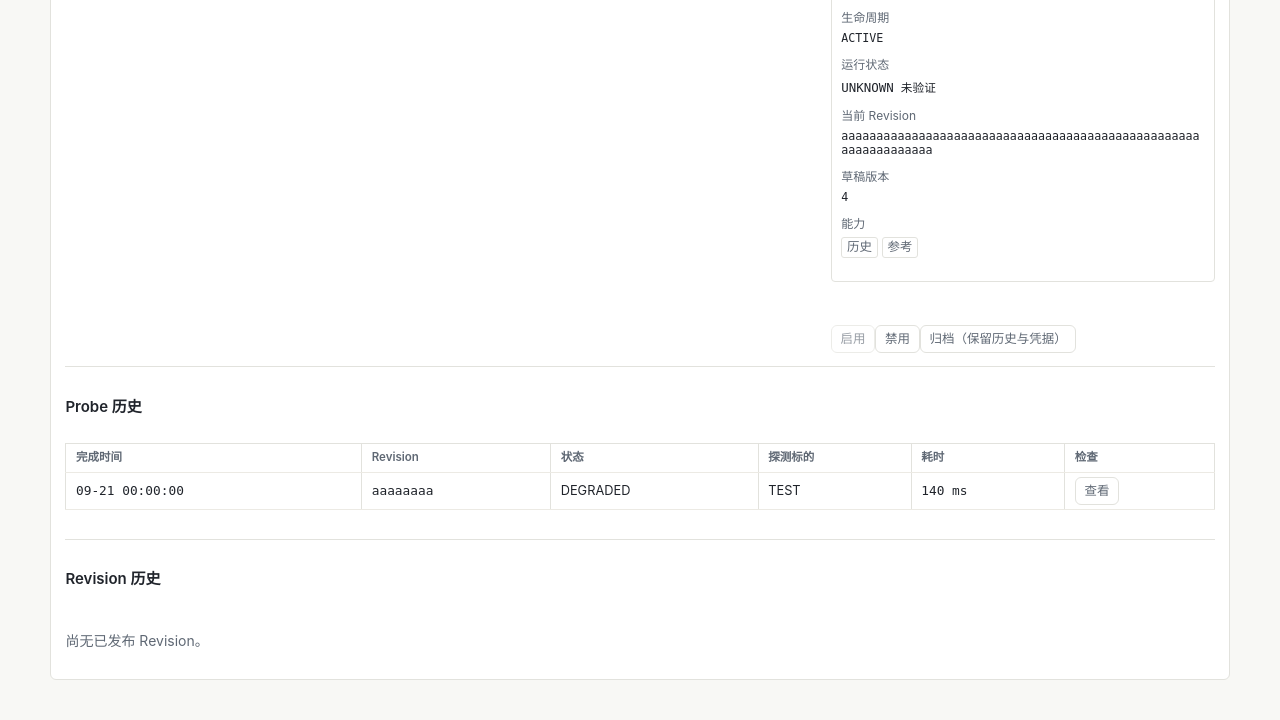
loads an exact Probe Attempt from bounded history for inspection
(page scrolled)
Click the button "查看".
click(1097, 491)  # box [1075,477,1119,505]
(page scrolled)
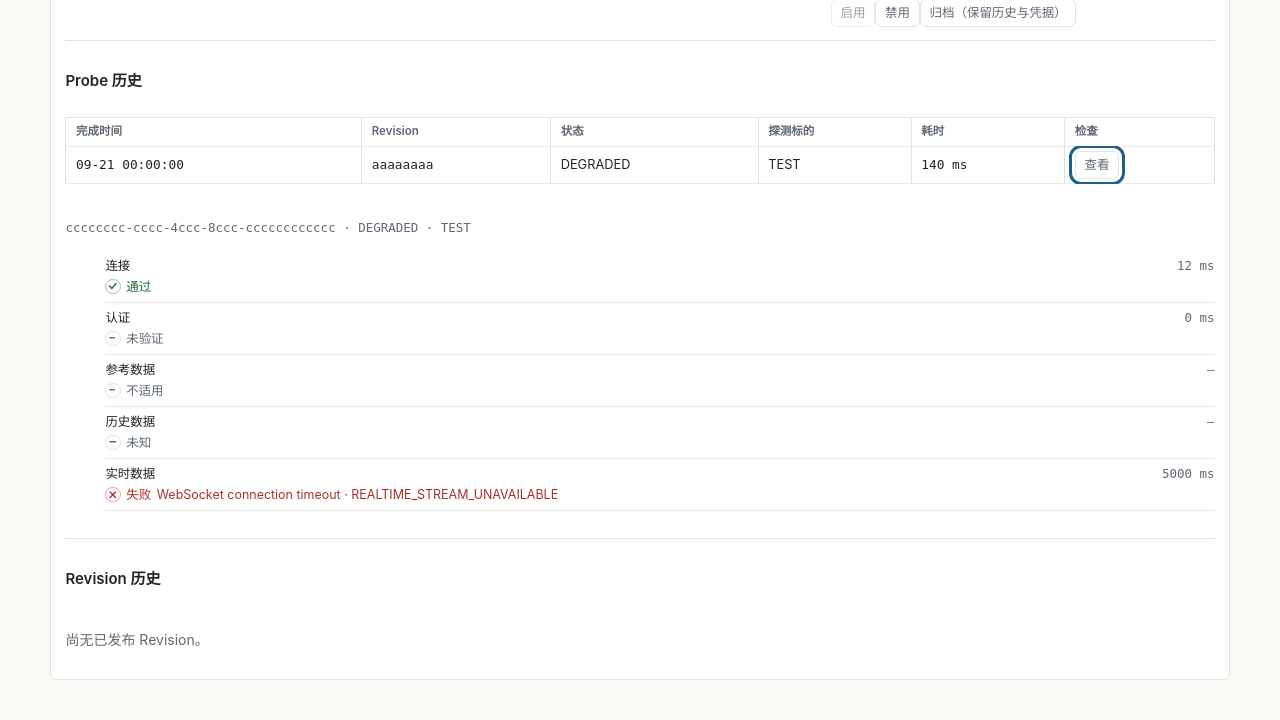
Expected: the element named "精确 Probe Attempt" shows "cccccccc-cccc-4ccc-8ccc-cccccccccccc", [65,220,336,235]
